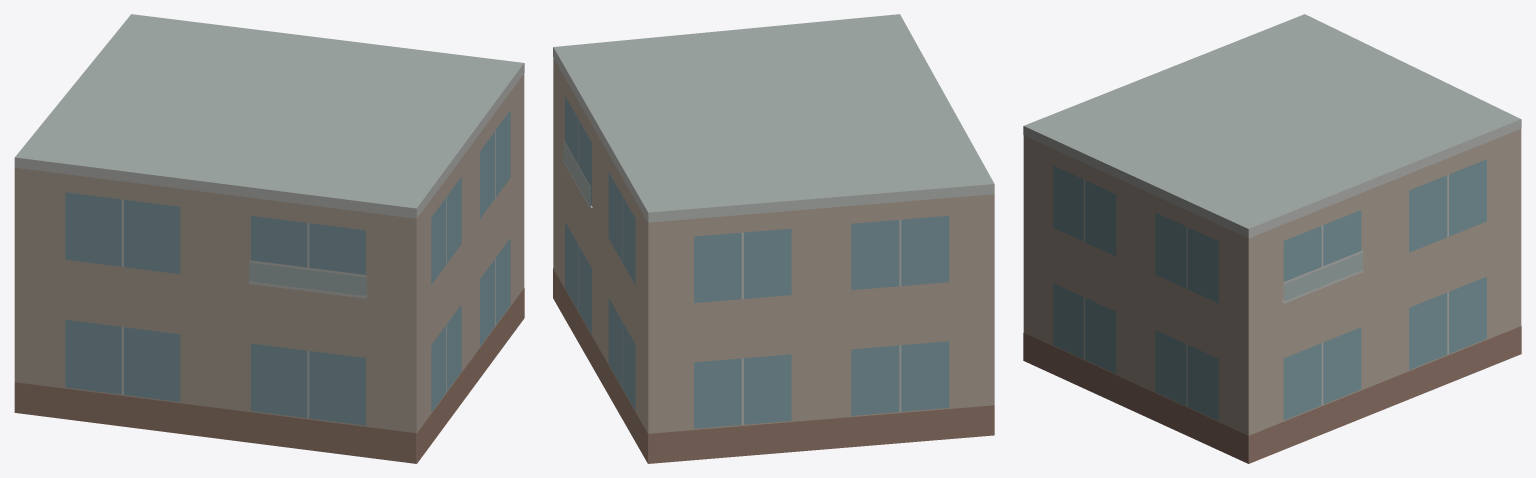
Rendered from survey-upis-32934239.glb.
The picture shows the model from 3 angles, left to right: view 1: azimuth 30°, elevation 25°; view 2: azimuth 150°, elevation 25°; view 3: azimuth 270°, elevation 25°; orthographic projection. The views are drawn at different scales.
Parts seen in each view (by area): view 1: survey-upis-32934239.tmp; view 2: survey-upis-32934239.tmp; view 3: survey-upis-32934239.tmp.
Part boxes in pixels (x1,y1,x2,y2): survey-upis-32934239.tmp: [14, 14, 524, 463]; survey-upis-32934239.tmp: [553, 14, 994, 463]; survey-upis-32934239.tmp: [1023, 14, 1521, 463].
Bounding box in the file's own units: 11.99 × 6.1 × 11.73.
